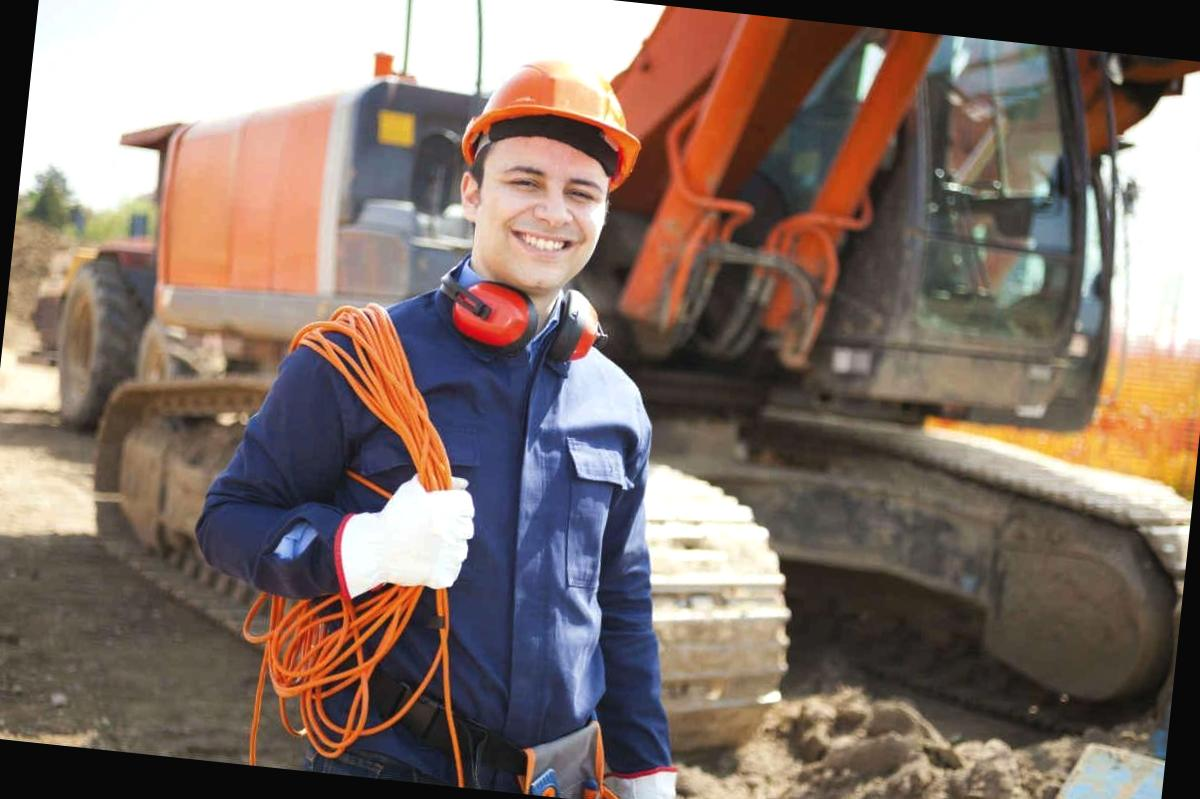helmet: (449, 53, 660, 196)
no_vest: (282, 238, 664, 688)
person: (264, 29, 738, 799)
